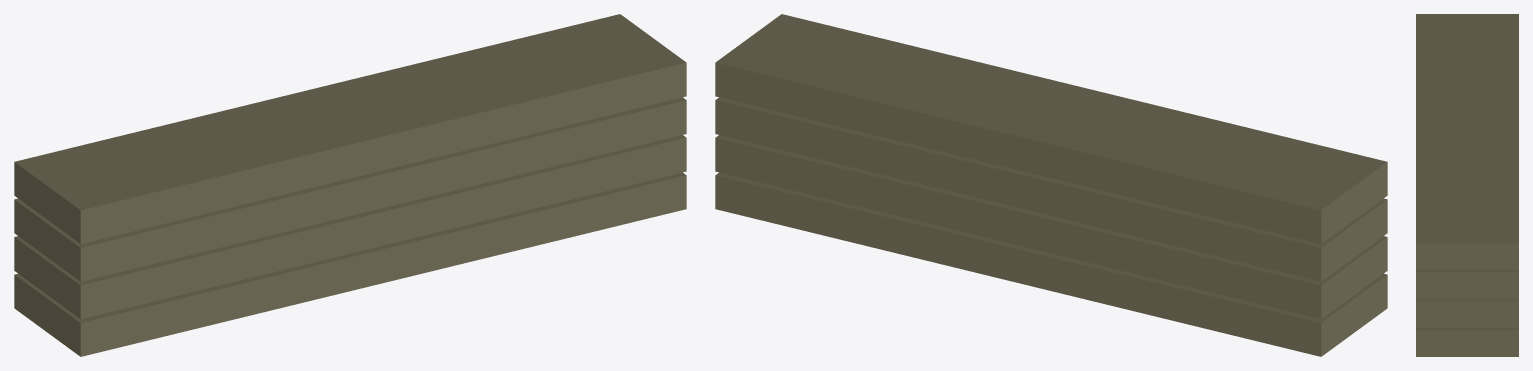
File: SM_PretilTramo_v0_Recto_e0_Sano_LOD1.fbx
3 renders of one model, left to right at view 1: azimuth 30°, elevation 25°; view 2: azimuth 150°, elevation 25°; view 3: azimuth 270°, elevation 25°, orthographic. The views are drawn at different scales.
Visible parts, largest first — view 1: SM_pretil_azotea_v0_LOD1; view 2: SM_pretil_azotea_v0_LOD1; view 3: SM_pretil_azotea_v0_LOD1.
Boxes of the visible parts, x1=… form: SM_pretil_azotea_v0_LOD1: x1=14, y1=14, x2=686, y2=356; SM_pretil_azotea_v0_LOD1: x1=715, y1=14, x2=1387, y2=356; SM_pretil_azotea_v0_LOD1: x1=1416, y1=14, x2=1518, y2=356.
Bounding box in the file's own units: 5.06 × 1.17 × 0.96.
